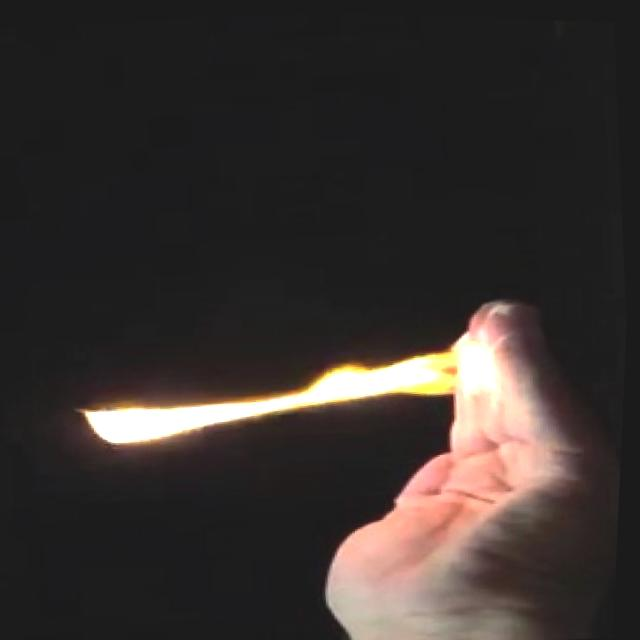Fire: (64, 315, 513, 464)
